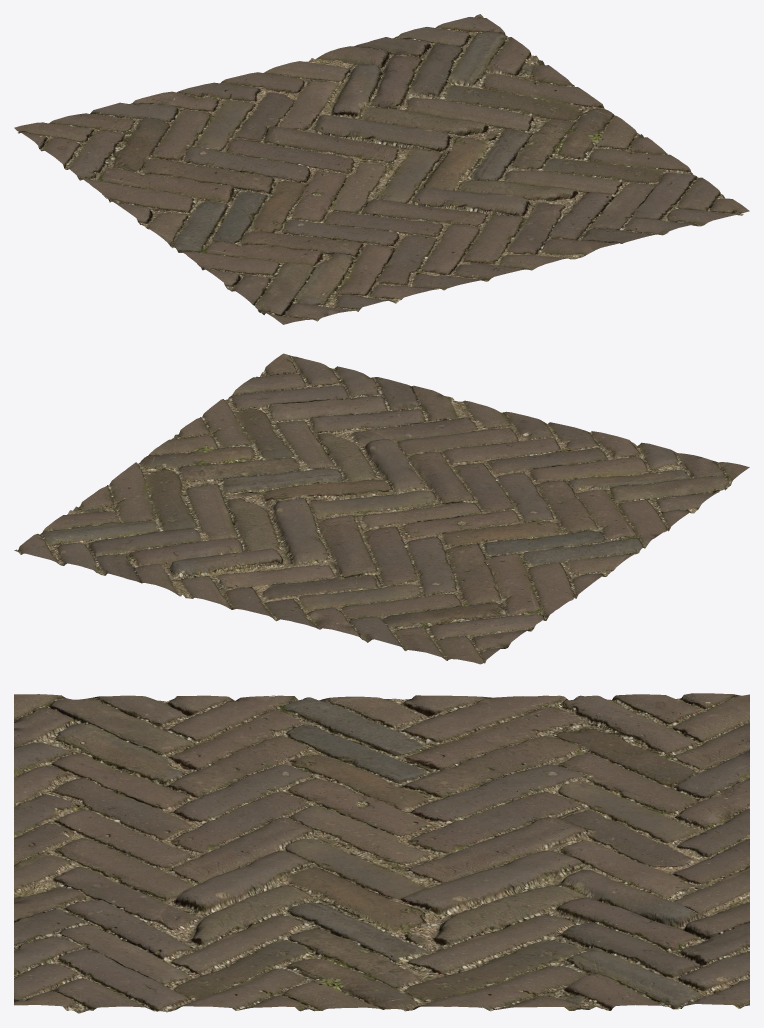
Rendered from brick_floor.87d0c292.glb.
3 views of the same model, one above another, from view 1: azimuth 30°, elevation 25°; view 2: azimuth 150°, elevation 25°; view 3: azimuth 270°, elevation 25° (orthographic). The views are drawn at different scales.
Visible parts, largest first — view 1: Plane; view 2: Plane; view 3: Plane.
Boxes of the visible parts, bbox=[...] form: Plane: bbox=[14, 14, 749, 324]; Plane: bbox=[14, 353, 749, 664]; Plane: bbox=[14, 693, 749, 1013].
Bounding box in the file's own units: 2 × 0.044 × 2.
Materials: 1 (1 with a texture image).
